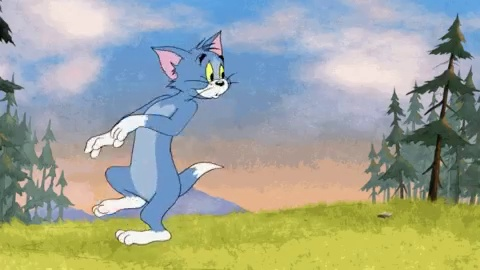tom: (83, 28, 241, 249)
